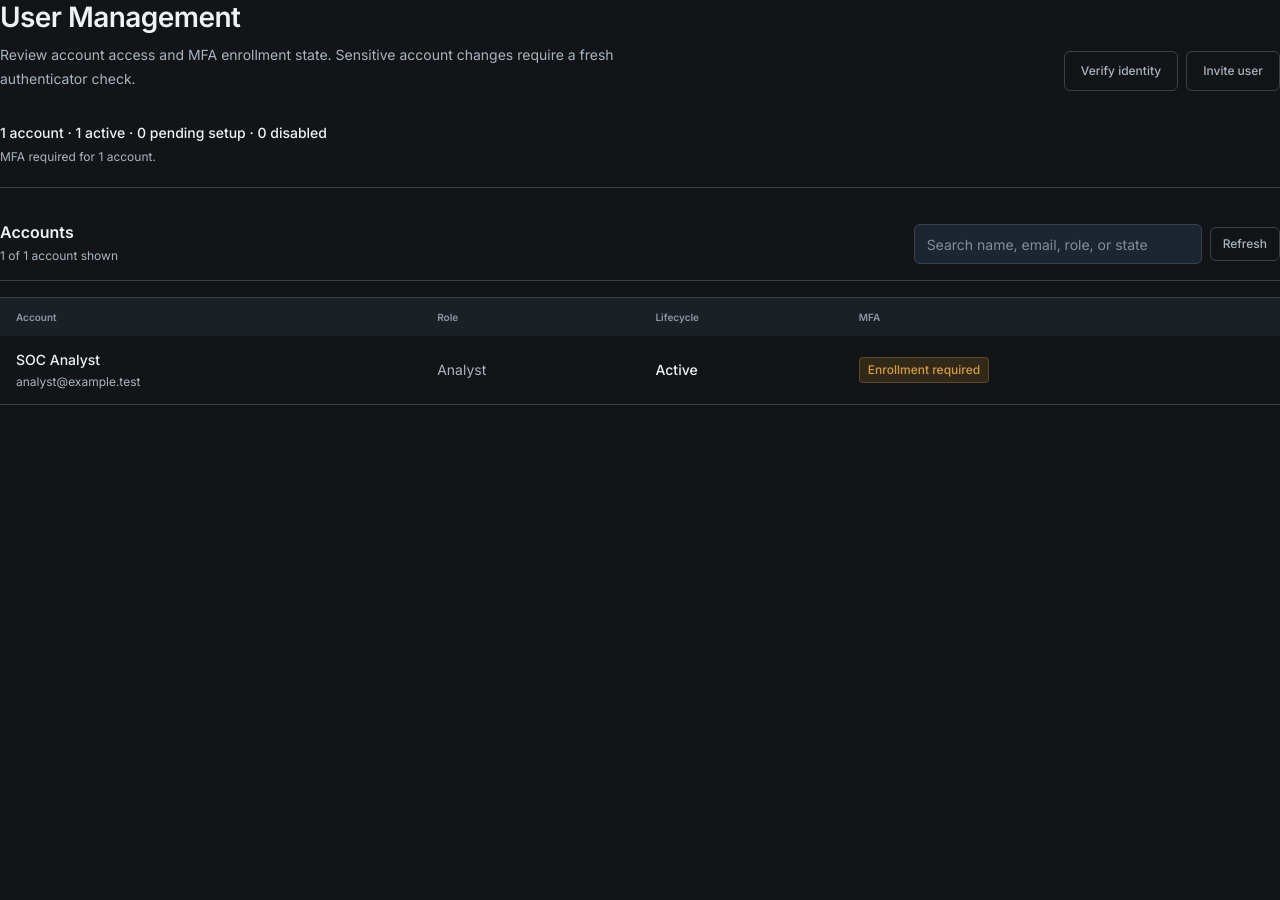
Test case: UserManagementWorkspace › renders a scan-first lifecycle list and keeps mutations in a detail panel
Expected: the heading "User Management" is shown, [0,0,240,34]
Expected: the element named "Account summary" is shown, [0,123,1279,188]
Click the button with aria-label "Open account details for SOC Analyst": point(58, 360) [16,350,100,370]
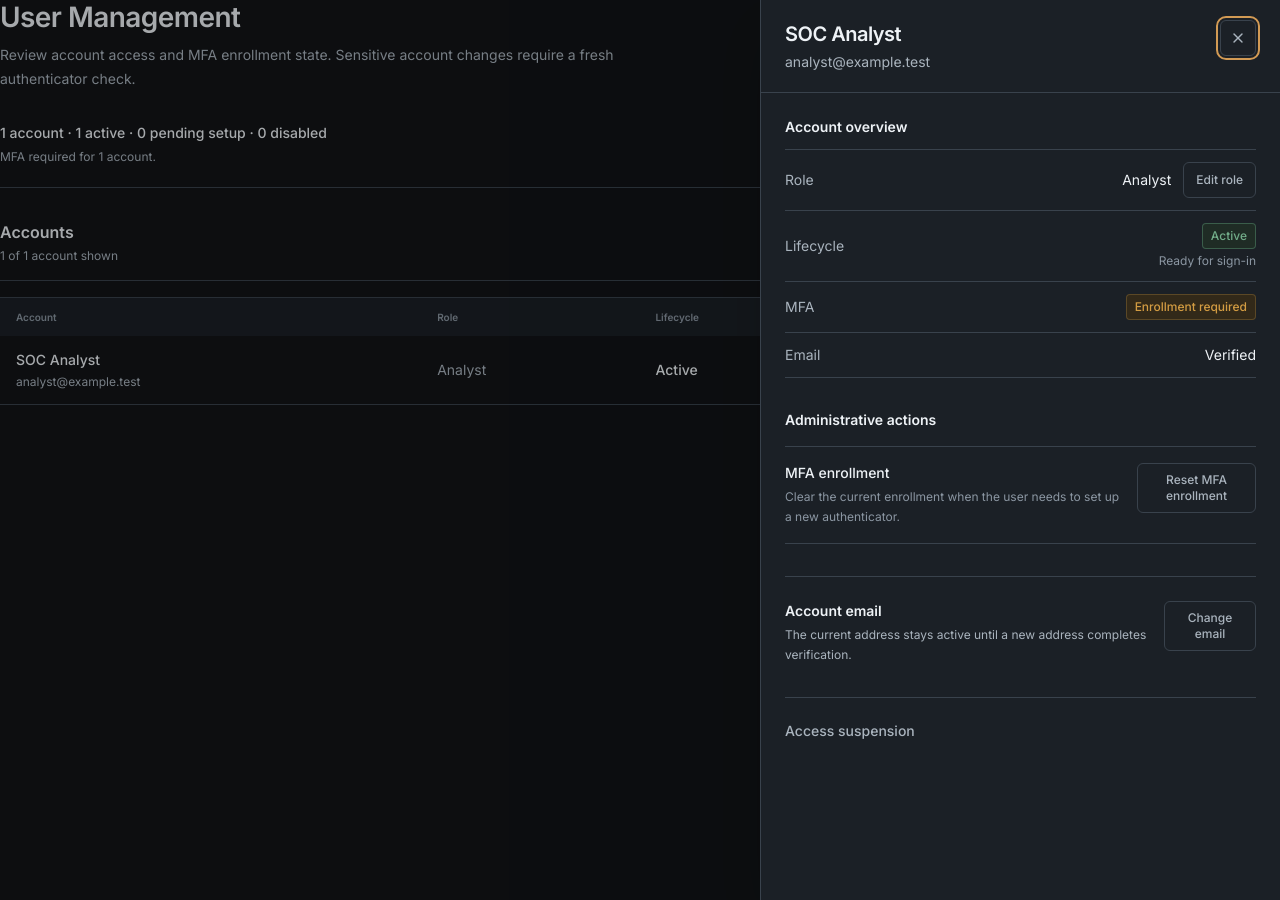
Now the dialog "SOC Analyst" is shown, box [760,0,1279,899]
Now the heading "Account overview" is shown, box [785,118,907,135]
Now the heading "Administrative actions" is shown, box [785,411,936,428]
